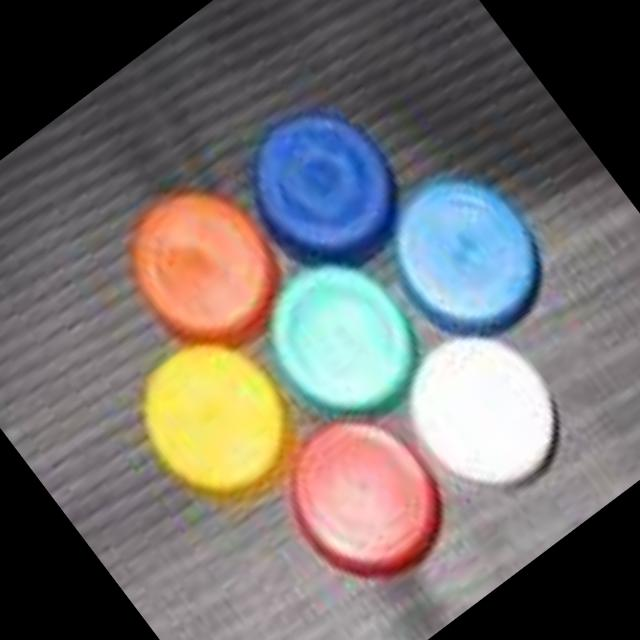TutupGalon: (23, 20, 640, 640)
